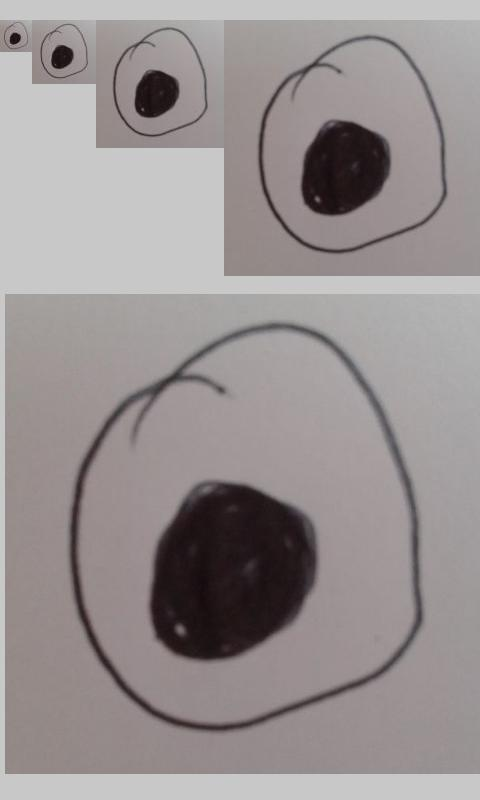radio_button: (70, 322, 424, 735), (258, 35, 447, 255), (112, 26, 208, 137), (40, 23, 88, 79), (3, 21, 29, 50)
